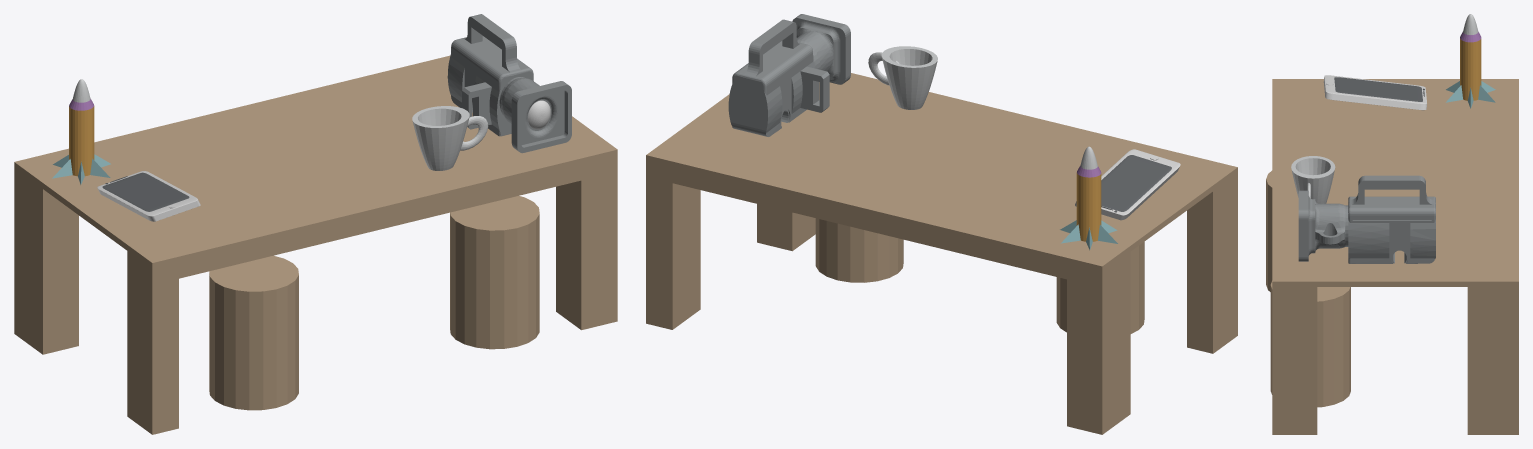
The model's file is table.glb.
The picture shows the model from 3 angles, left to right: view 1: azimuth 30°, elevation 25°; view 2: azimuth 150°, elevation 25°; view 3: azimuth 270°, elevation 25°; orthographic projection. The views are drawn at different scales.
Parts seen in each view (by area): view 1: Mesh_Mesh_head_geo.001_lambert2SG.001; view 2: Mesh_Mesh_head_geo.001_lambert2SG.001; view 3: Mesh_Mesh_head_geo.001_lambert2SG.001.
Part boxes in pixels (x1,y1,x2,y2): Mesh_Mesh_head_geo.001_lambert2SG.001: [14, 14, 617, 434]; Mesh_Mesh_head_geo.001_lambert2SG.001: [646, 14, 1237, 434]; Mesh_Mesh_head_geo.001_lambert2SG.001: [1266, 14, 1518, 434].
Bounding box in the file's own units: 119 × 64.6 × 62.73.
